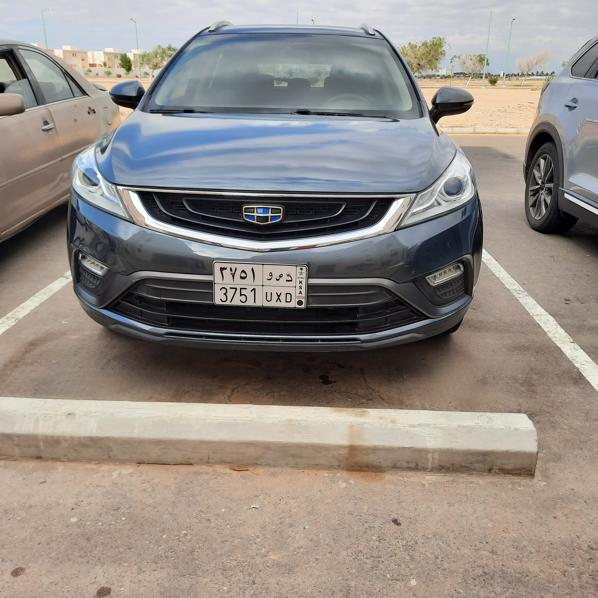numberplate: (214, 262, 307, 309)
